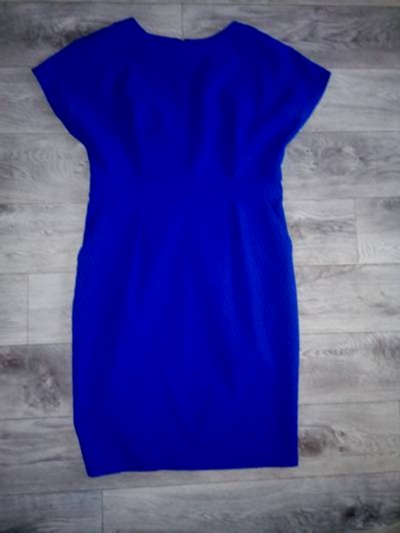Dress: (25, 16, 338, 484)
